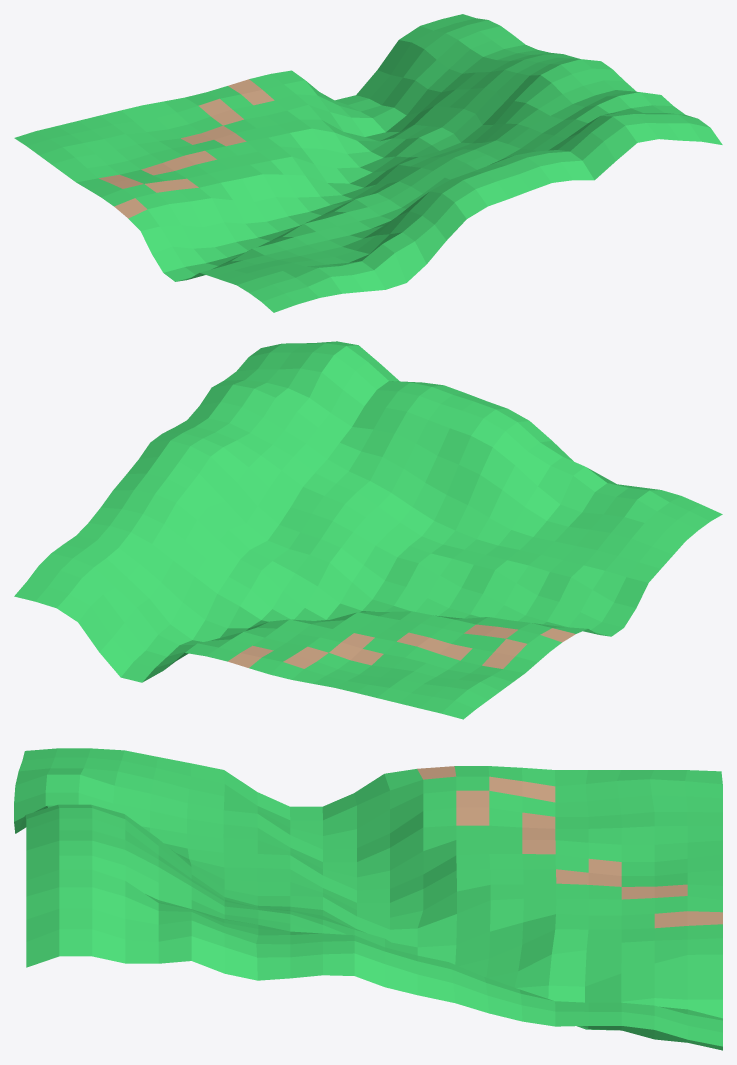
The model's file is Land9.fbx.
3 renders of one model, top to bottom at view 1: azimuth 30°, elevation 25°; view 2: azimuth 150°, elevation 25°; view 3: azimuth 270°, elevation 25°, orthographic. The views are drawn at different scales.
Parts seen in each view (by area): view 1: PlatformCenter.004; view 2: PlatformCenter.004; view 3: PlatformCenter.004.
Boxes of the visible parts, left/top/right/bottom form: PlatformCenter.004: left=14, top=14, right=722, bottom=312; PlatformCenter.004: left=14, top=341, right=722, bottom=719; PlatformCenter.004: left=14, top=748, right=722, bottom=1050.
Size of the model in its own units: 3513 by 1084 by 3571.
